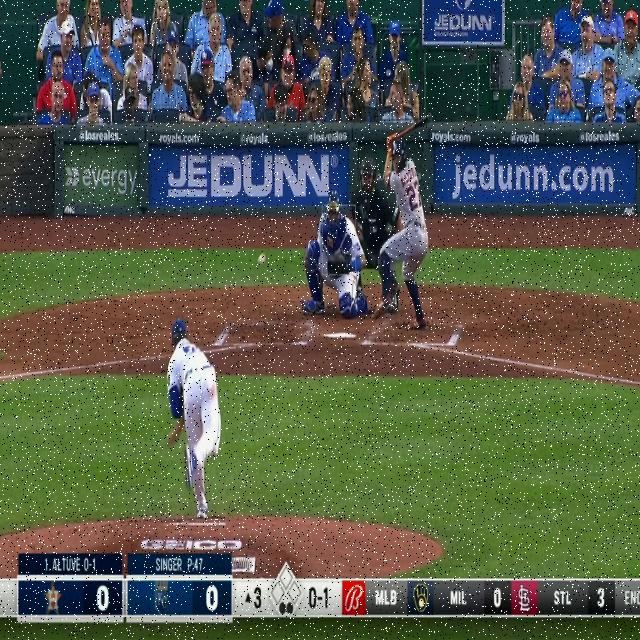baseball: (258, 252, 266, 266)
